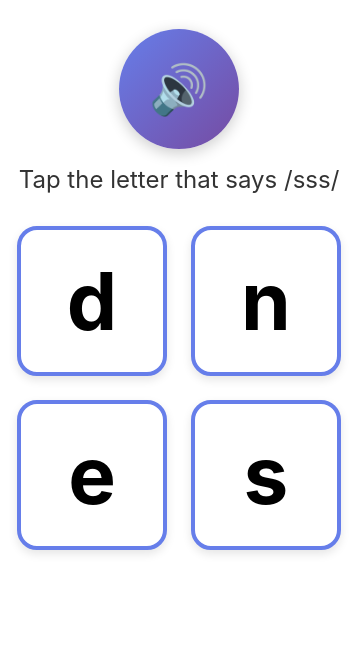
Test: SoundLetterGame › shows hint when wrong letter is tapped
Click the button "d". click: (92, 300)
box: x1=17 y1=226 x2=167 y2=376
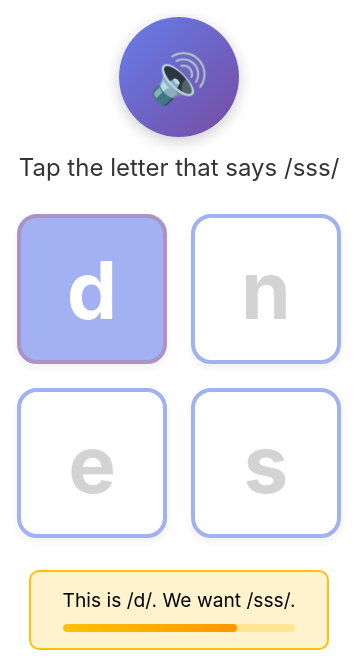
Expected: the text "This is /d/. We want /sss/." is shown, x1=63 y1=588 x2=295 y2=612
